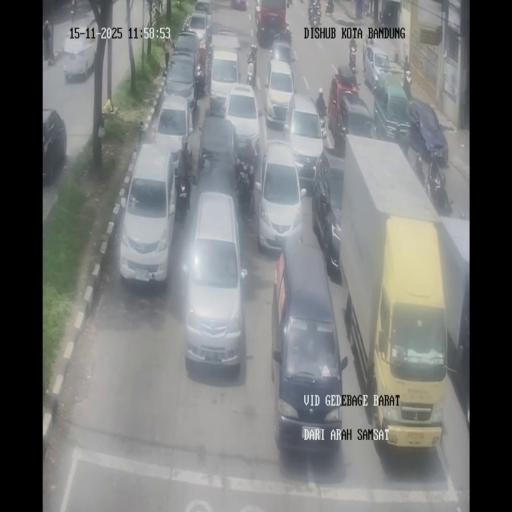3: (337, 139, 458, 449), (373, 72, 411, 149), (211, 31, 240, 56)
car: (271, 236, 344, 452), (182, 189, 247, 369), (118, 144, 178, 284), (284, 94, 325, 188), (314, 151, 344, 277), (328, 69, 366, 151), (196, 113, 238, 182), (407, 100, 450, 167), (208, 47, 242, 116), (162, 53, 198, 115), (264, 59, 295, 127), (41, 109, 67, 184), (63, 33, 96, 84), (363, 43, 391, 93), (184, 9, 212, 48), (194, 1, 212, 15)
truck: (236, 156, 254, 211), (176, 170, 191, 214), (193, 52, 206, 98), (424, 170, 439, 209), (276, 22, 292, 45), (246, 52, 256, 88), (401, 66, 412, 98), (440, 187, 453, 214), (308, 0, 321, 26), (205, 46, 212, 92), (317, 100, 327, 132), (43, 37, 54, 63), (254, 2, 262, 37), (350, 51, 359, 76), (325, 0, 334, 16), (70, 0, 76, 23), (362, 36, 367, 62), (362, 0, 369, 17), (379, 10, 384, 23), (286, 0, 293, 8)
